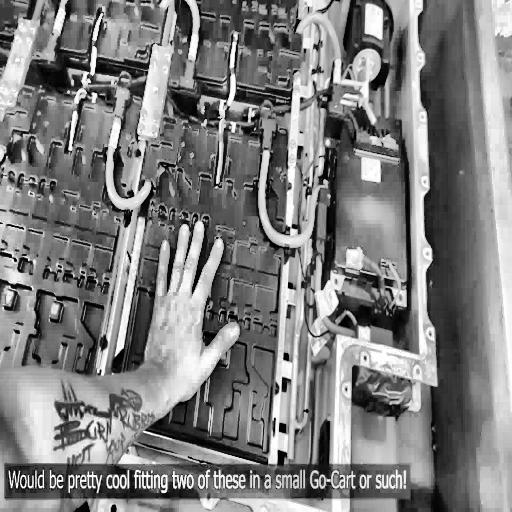high_volt_cable: (259, 114, 347, 353), (106, 84, 152, 222), (296, 8, 346, 107), (159, 0, 200, 69)
nut: (150, 55, 158, 70), (7, 93, 15, 106), (160, 57, 169, 68), (0, 77, 7, 91), (152, 112, 160, 124), (11, 81, 19, 93), (28, 18, 36, 30), (14, 28, 22, 39), (290, 138, 297, 150), (25, 32, 33, 42), (18, 17, 25, 28), (151, 124, 157, 136), (141, 108, 147, 120), (164, 46, 171, 56), (294, 73, 301, 82), (289, 153, 295, 163), (294, 84, 300, 94), (152, 44, 158, 54), (139, 124, 145, 132)
